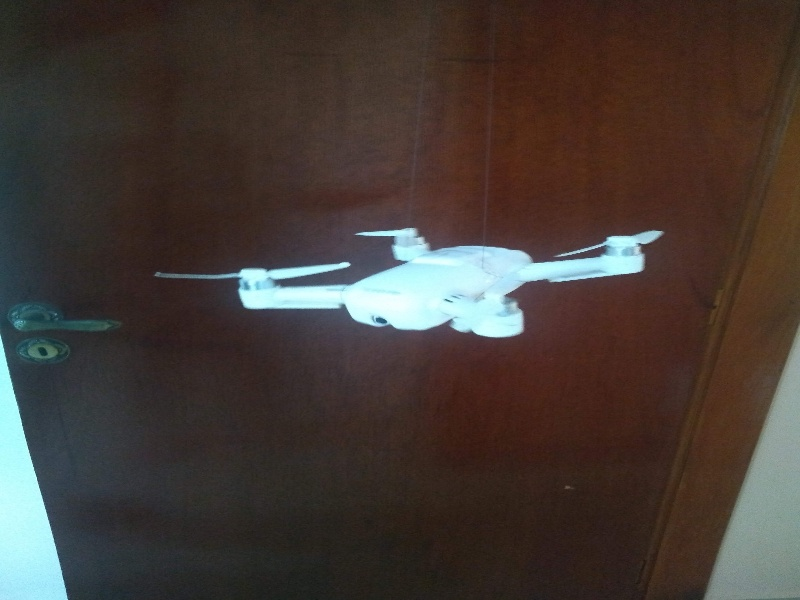drone: (198, 210, 669, 346)
